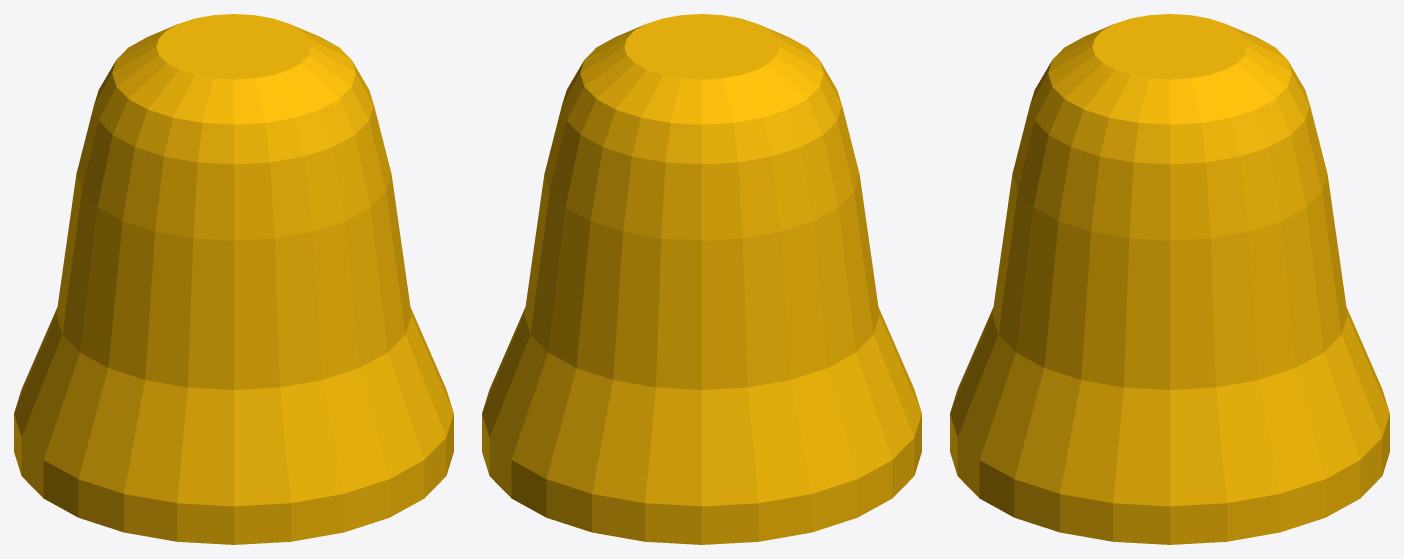
The model's file is Prop_Christmas_Ornament_Bell_01.FBX.
3 views of the same model, side by side, from view 1: azimuth 30°, elevation 25°; view 2: azimuth 150°, elevation 25°; view 3: azimuth 270°, elevation 25° (orthographic).
Parts seen in each view (by area): view 1: Prop_Christmas_Ornament_Bell_01; view 2: Prop_Christmas_Ornament_Bell_01; view 3: Prop_Christmas_Ornament_Bell_01.
Boxes of the visible parts, x1,y1,x2,y2 form: Prop_Christmas_Ornament_Bell_01: (14, 14, 453, 544); Prop_Christmas_Ornament_Bell_01: (482, 14, 921, 544); Prop_Christmas_Ornament_Bell_01: (950, 14, 1389, 544).
Size of the model in its own units: 204 by 207 by 204.
